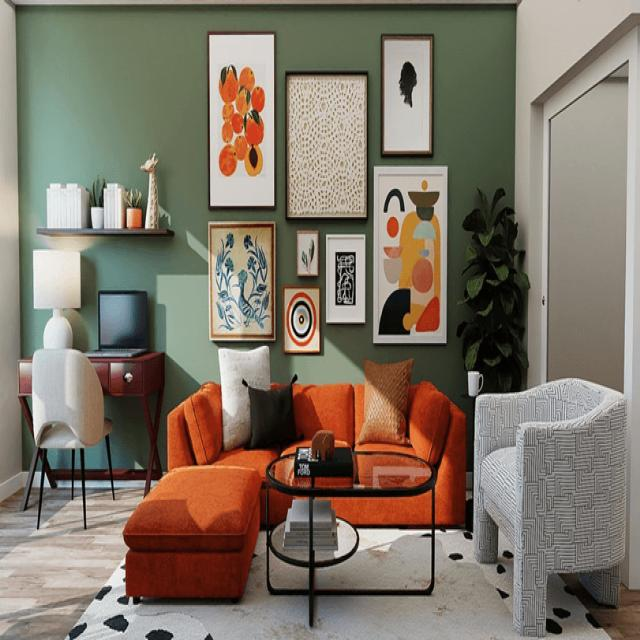modern chair: (472, 351, 627, 638), (26, 348, 114, 534)
modern desk: (262, 422, 442, 630)
modern sofa: (153, 374, 470, 530)
